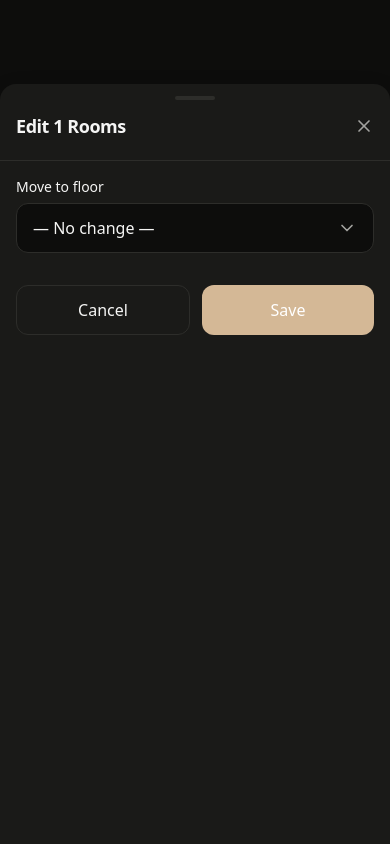
Scenario: BulkEditRoomsModal › should show error toast on API failure
Click the button "— No change —".
click(94, 228)  # box [16,203,374,253]
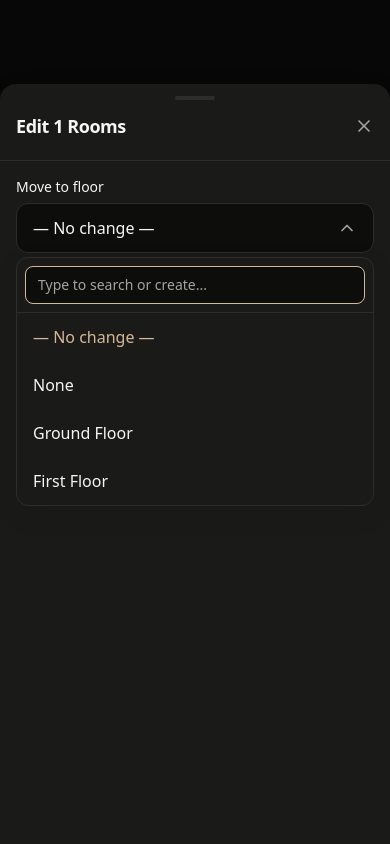
Click the button "First Floor".
click(71, 481)  # box [17,457,373,505]
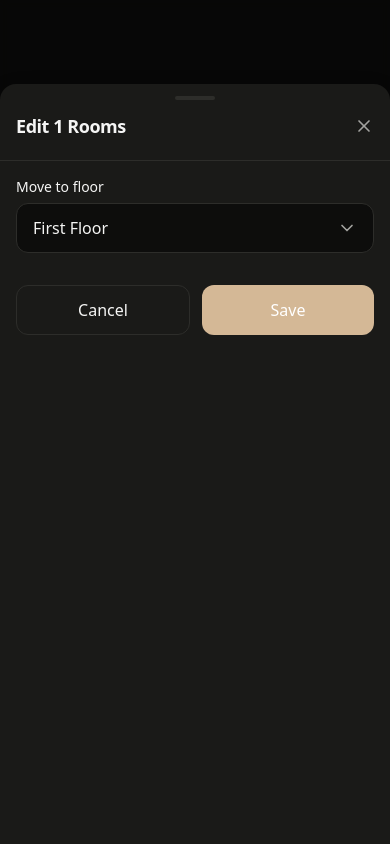
Click the button "Save".
click(288, 310)  # box [202,285,374,335]
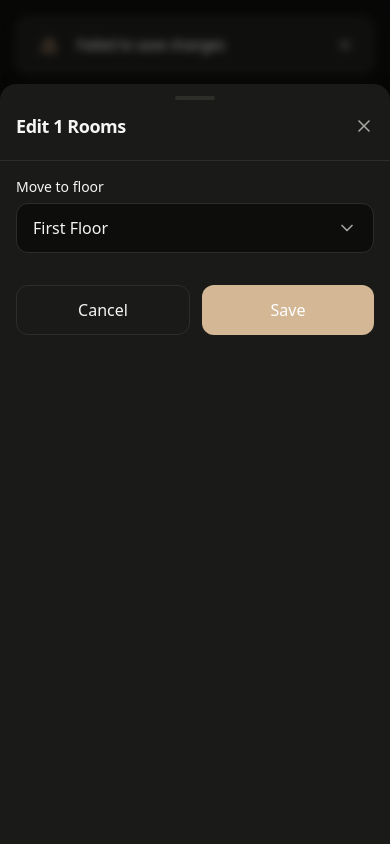
Expected: the text "Failed to save changes" is shown, [77,35,225,54]
